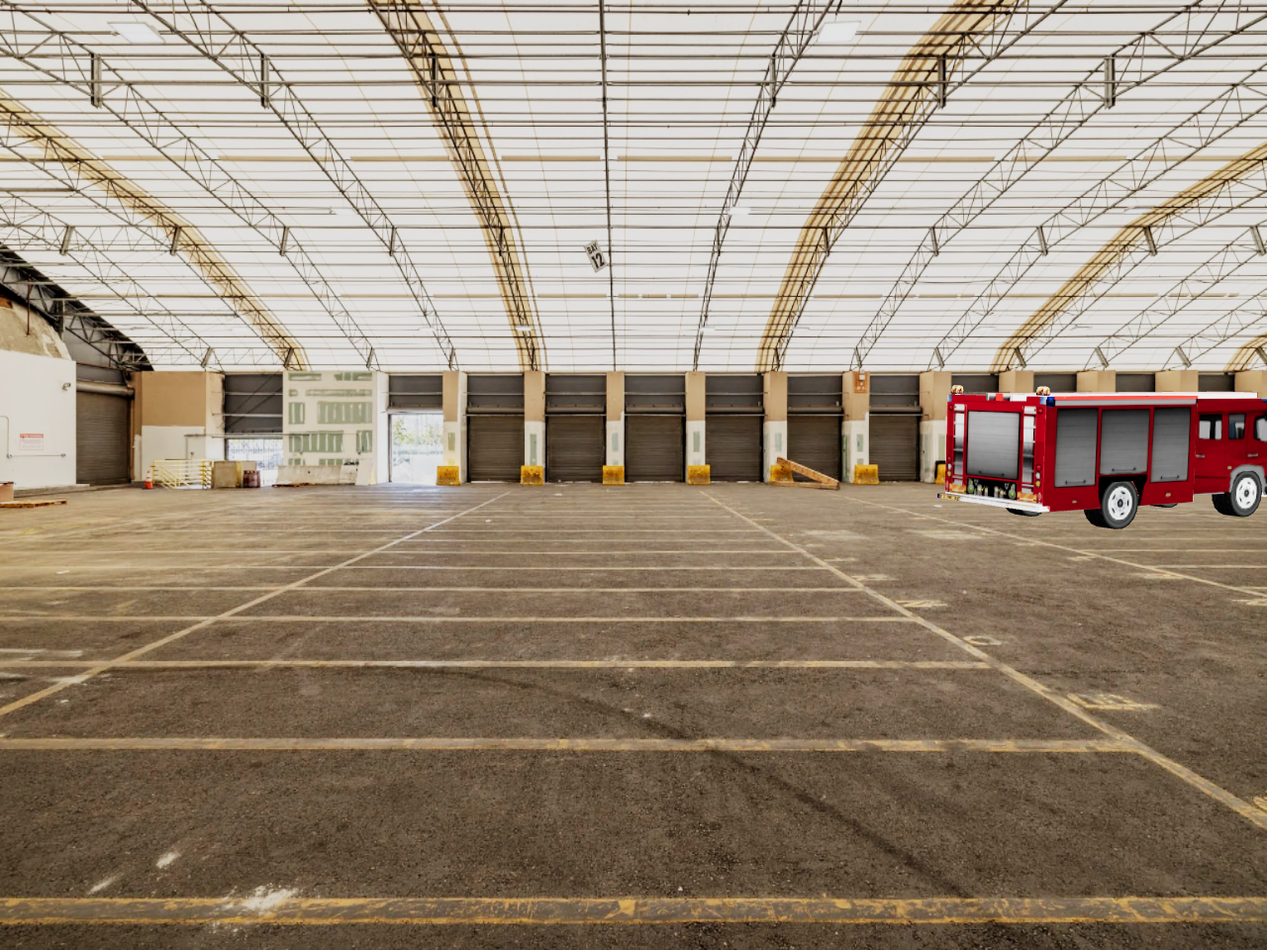FireTruck: (937, 385, 1267, 529)
